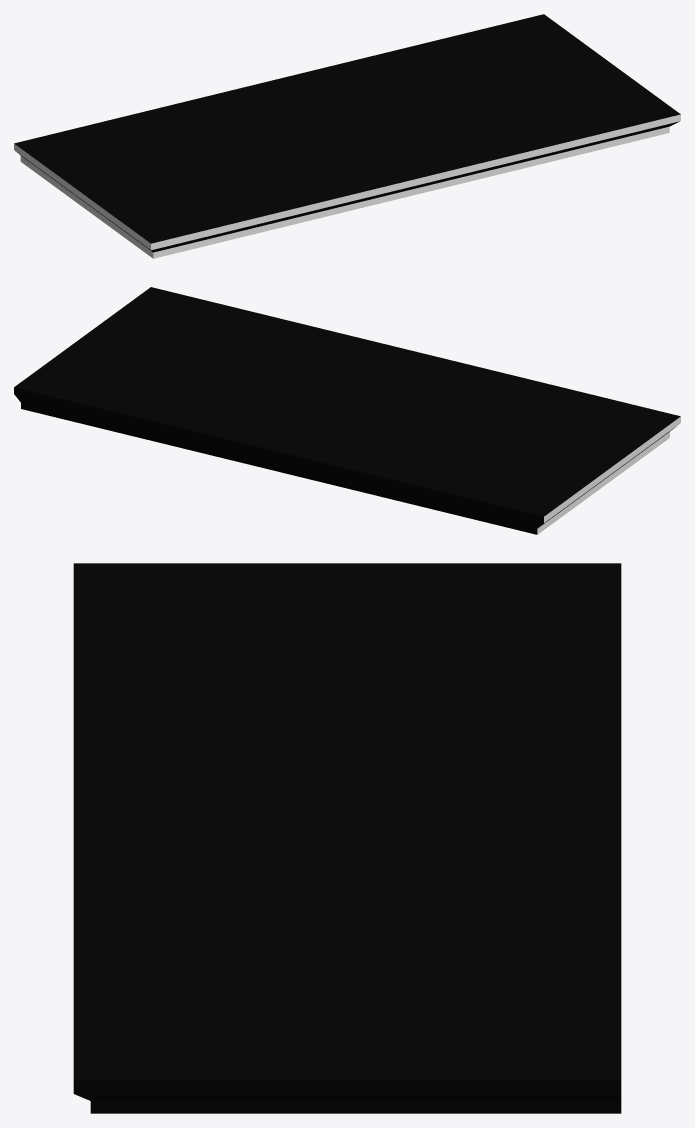
Rendered from Porch5.glb.
3 renders of one model, top to bottom at view 1: azimuth 30°, elevation 25°; view 2: azimuth 150°, elevation 25°; view 3: azimuth 270°, elevation 25°, orthographic. The views are drawn at different scales.
Parts seen in each view (by area): view 1: Porch5; view 2: Porch5; view 3: Porch5.
Part boxes in pixels (x1,y1,x2,y2): Porch5: [14, 14, 680, 258]; Porch5: [14, 287, 680, 534]; Porch5: [73, 563, 621, 1113].
Size of what is drawn, in the model's own units: 12.05 by 0.4332 by 5.4.
1 material, 1 textured.
